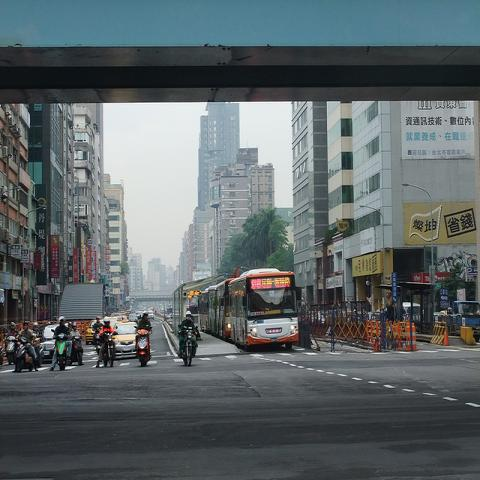bus: (229, 269, 300, 354), (208, 278, 236, 341), (196, 290, 209, 331), (186, 305, 199, 329)
car: (112, 318, 138, 359), (42, 323, 60, 359), (86, 319, 104, 345), (129, 315, 138, 324), (147, 310, 155, 320), (137, 311, 143, 318)
motorcycle: (133, 326, 153, 367), (66, 329, 85, 367), (15, 336, 35, 372), (53, 333, 71, 370), (178, 330, 196, 366), (2, 327, 19, 365), (102, 330, 118, 368), (92, 325, 100, 348)
